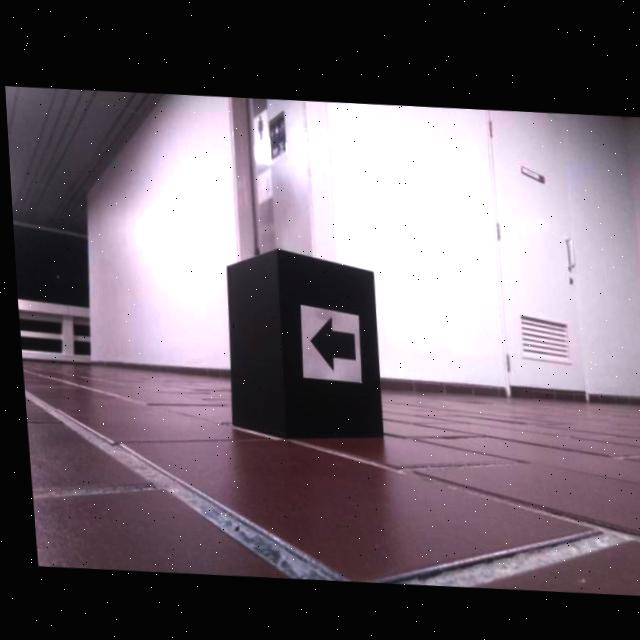LEFT: (305, 311, 352, 367)
